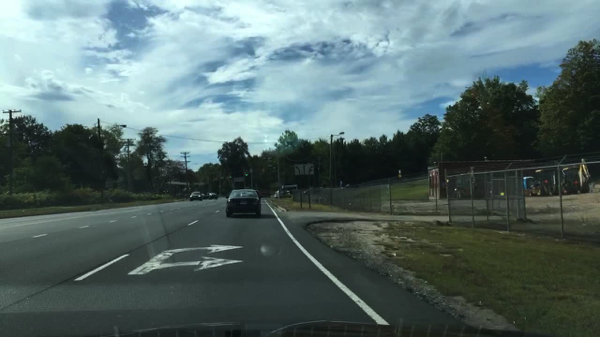car: (532, 158, 591, 197), (224, 188, 261, 218), (517, 175, 538, 196), (273, 184, 298, 199), (302, 185, 329, 196), (189, 191, 204, 202), (204, 191, 218, 199), (257, 190, 271, 198), (201, 192, 208, 199)
traffic light: (243, 171, 249, 177), (228, 175, 232, 181), (261, 168, 265, 173)
traffic sign: (293, 162, 313, 176), (234, 178, 246, 183), (397, 170, 403, 178), (249, 168, 254, 174)
